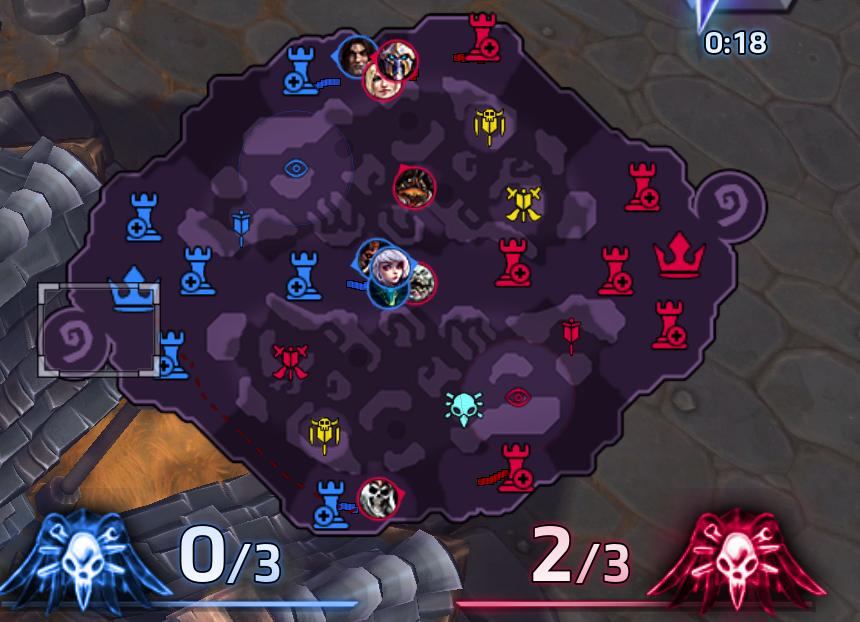blue nexus: (107, 264, 158, 313)
blue player: (333, 35, 377, 82), (353, 238, 400, 280), (366, 267, 413, 309)
blue tower: (284, 249, 323, 302), (282, 45, 321, 98), (178, 245, 217, 297), (125, 190, 163, 243), (312, 479, 353, 527), (156, 327, 190, 378)
red nexus: (652, 231, 706, 280)
red player: (371, 38, 422, 84), (361, 61, 412, 107), (368, 247, 413, 294), (357, 476, 405, 520), (392, 165, 435, 211), (406, 262, 438, 307)
red tower: (453, 11, 498, 65), (623, 160, 661, 214), (596, 244, 634, 297), (650, 300, 689, 351), (494, 237, 532, 288)
